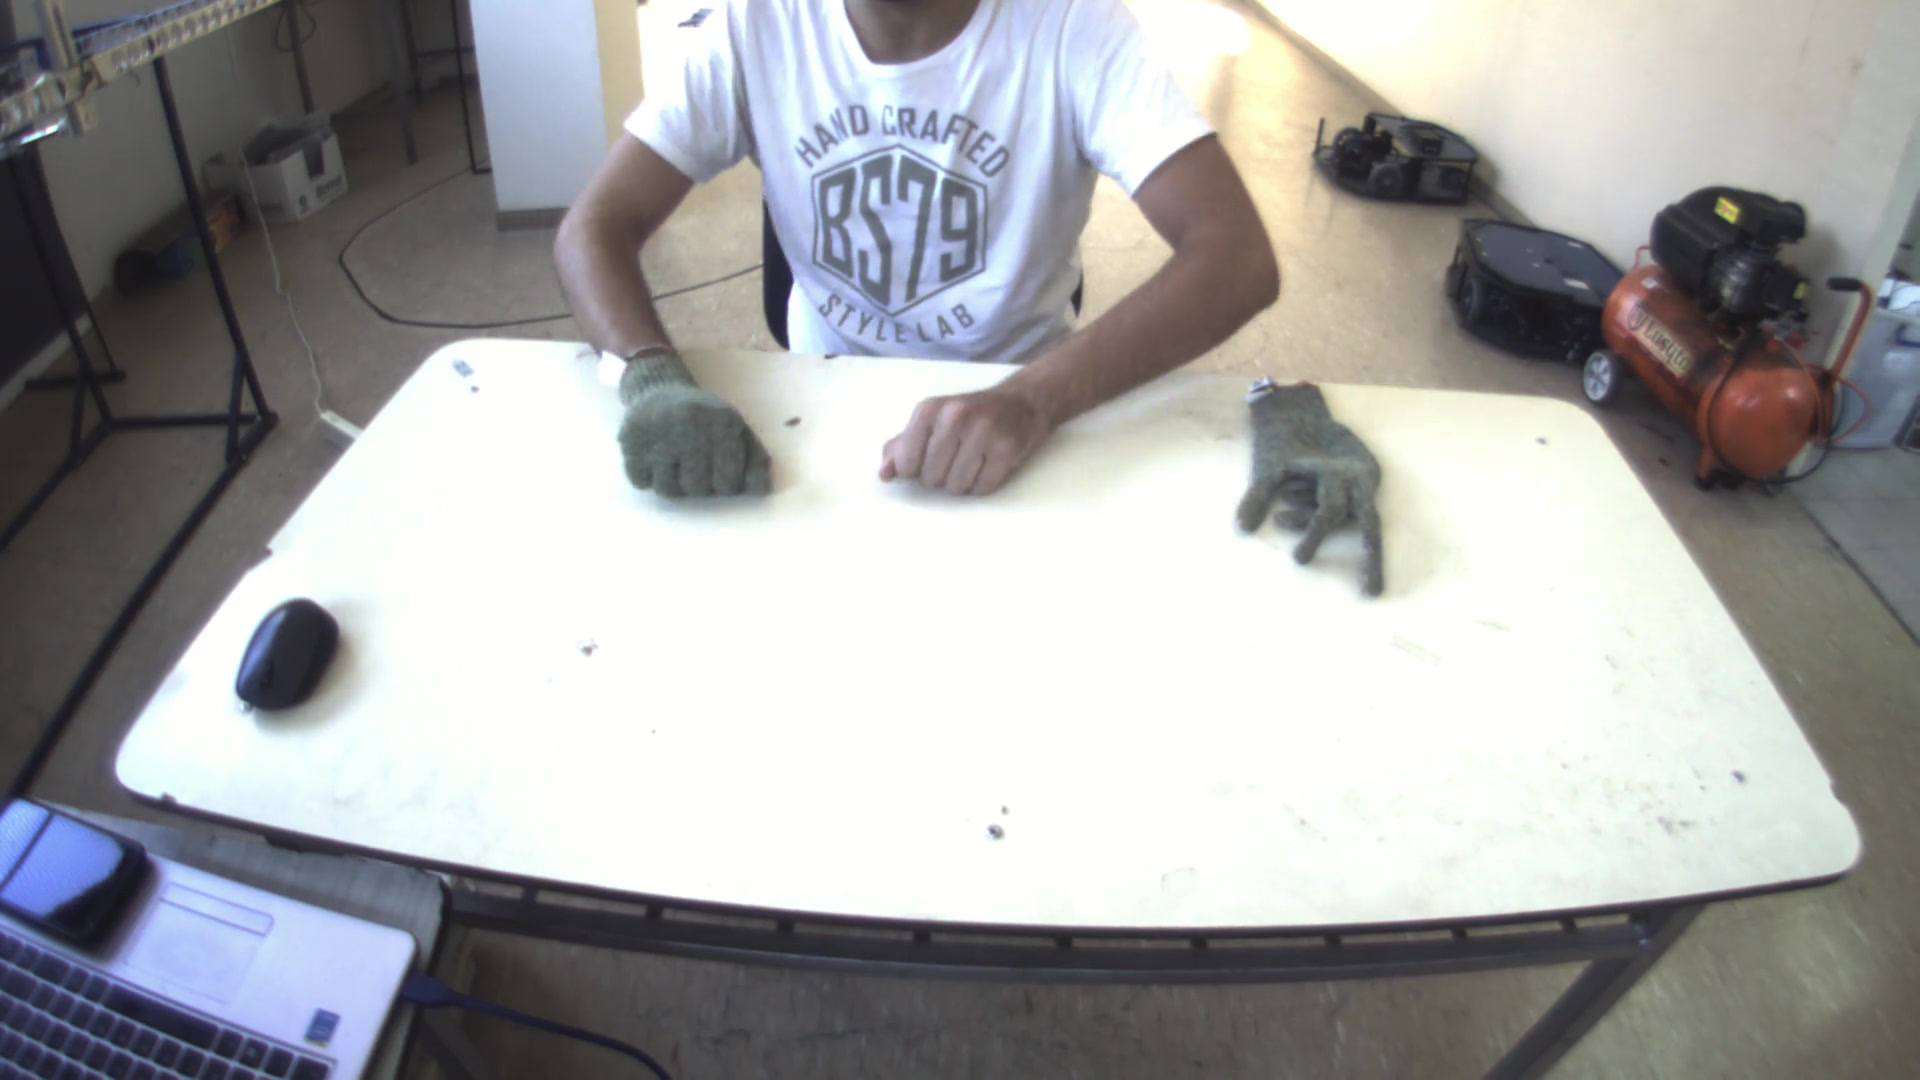hand: (597, 328, 770, 502), (878, 360, 1048, 497)
